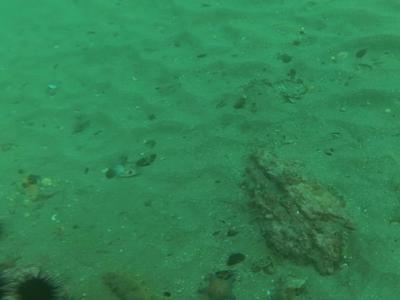holothurian: (100, 271, 152, 296)
urchin: (9, 268, 59, 297)
